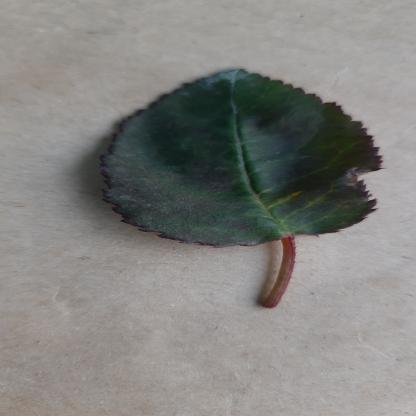downy-mildew: (99, 68, 398, 248)
